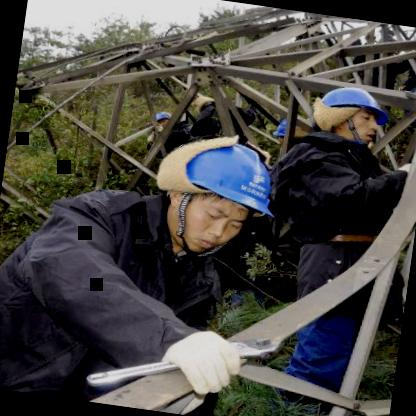helmet: (154, 126, 287, 262), (310, 76, 394, 148)
